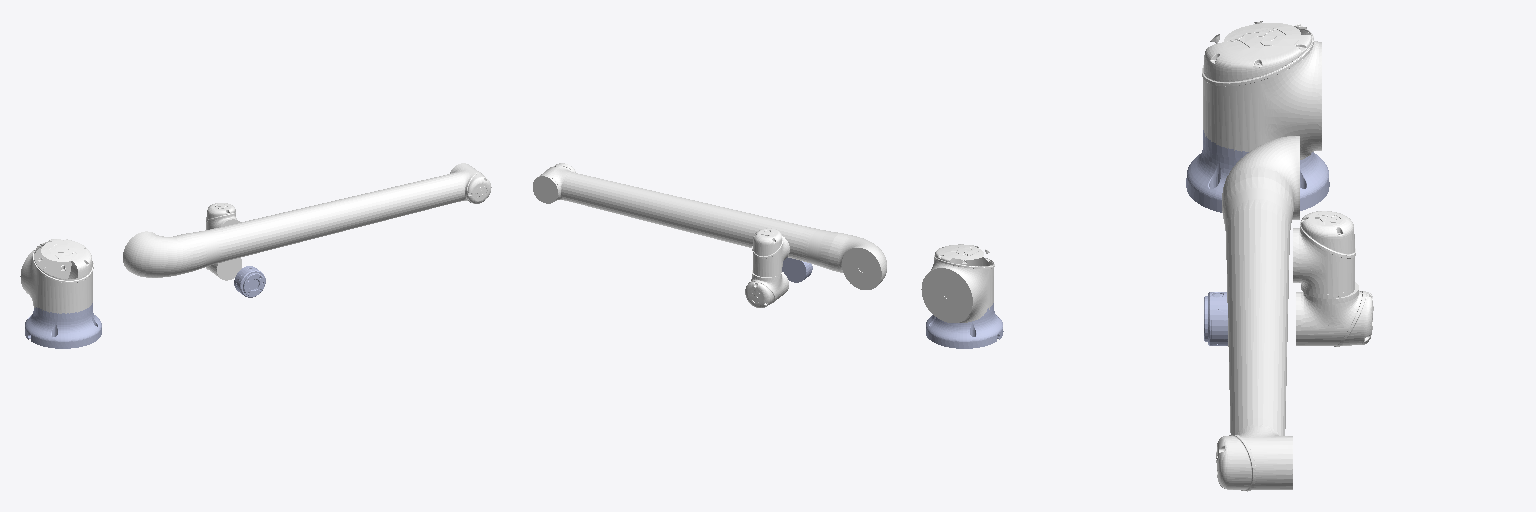
URDF robot description (ec63):
<?xml version="1.0" ?>

<robot name="ec63"  xmlns:xacro="http://www.ros.org/wiki/xacro"> 
  <link name="world"/>
  <joint name="real_world_joint" type="fixed">
    <origin rpy="0 0 0" xyz="0 0 0"/>
    <parent link="world"/>
    <child link="real_base_link"/>
  </joint>
  <link name="real_base_link">
    <inertial>
      <origin rpy="0 0 0" xyz="6.6025E-05 1.6931E-05 0.036471"/>
      <mass value="0.3647"/>
      <inertia ixx="0.00059057" ixy="6.2306E-07" ixz="6.6029E-07" iyy="0.00058934" iyz="-4.8028E-08" izz="0.00074656"/>
    </inertial>
    <visual>
      <origin rpy="0 0 0" xyz="0 0 0"/>
      <geometry>
        <mesh filename="../meshes/base_link.STL"/>
      </geometry>
      <material name="">
        <color rgba="0.79216 0.81961 0.93333 1"/>
      </material>
    </visual>
    <collision>
      <origin rpy="0 0 0" xyz="0 0 0"/>
      <geometry>
        <mesh filename="../meshes/base_link.STL"/>
      </geometry>
    </collision>
  </link>
  <link name="real_link1">
    <inertial>
      <origin rpy="0 0 0" xyz="-5.9693298609962E-07 0.00718798730554815 0.00130597011750025"/>
      <mass value="1.0468989469595"/>
      <inertia ixx="0.00131622835302873" ixy="1.33626024644229E-08" ixz="1.22267487012503E-08" iyy="0.00121041697616178" iyz="-0.000167494836949108" izz="0.00140200332966305"/>
    </inertial>
    <visual>
      <origin rpy="0 0 0" xyz="0 0 0"/>
      <geometry>
        <mesh filename="../meshes/link1.STL"/>
      </geometry>
      <material name="">
        <color rgba="1 1 1 1"/>
      </material>
    </visual>
    <collision>
      <origin rpy="0 0 0" xyz="0 0 0"/>
      <geometry>
        <mesh filename="../meshes/link1.STL"/>
      </geometry>
    </collision>
  </link>
  <joint name="real_joint1" type="revolute">
    <origin rpy="0 0 0" xyz="0 0 0.14"/>
    <parent link="real_base_link"/>
    <child link="real_link1"/>
    <axis xyz="0 0 1"/>
    <limit effort="90" lower="-6.2832" upper="6.2832" velocity="3.3161"/>
  </joint>
  <link name="real_link2">
    <inertial>
      <origin rpy="0 0 0" xyz="0.13499 -8.1271E-07 0.12053"/>
      <mass value="2.6439"/>
      <inertia ixx="0.0032939" ixy="-2.7429E-08" ixz="-3.997E-09" iyy="0.0044238" iyz="-1.4367E-07" izz="0.004596"/>
    </inertial>
    <visual>
      <origin rpy="0 0 0" xyz="0 0 0"/>
      <geometry>
        <mesh filename="../meshes/link2.STL"/>
      </geometry>
      <material name="">
        <color rgba="1 1 1 1"/>
      </material>
    </visual>
    <collision>
      <origin rpy="0 0 0" xyz="0 0 0"/>
      <geometry>
        <mesh filename="../meshes/link2.STL"/>
      </geometry>
    </collision>
  </link>
  <joint name="real_joint2" type="revolute">
    <origin rpy="-1.5708 0 0" xyz="0 0 0"/>
    <parent link="real_link1"/>
    <child link="real_link2"/>
    <axis xyz="0 0 1"/>
    <limit effort="90" lower="-6.2832" upper="6.2832" velocity="3.3161"/>
  </joint>
  <link name="real_link3">
    <inertial>
      <origin rpy="0 0 0" xyz="0.12895 -1.241E-05 0.011444"/>
      <mass value="1.4492"/>
      <inertia ixx="0.0012764" ixy="-3.0636E-08" ixz="7.348E-05" iyy="0.0020529" iyz="-2.1502E-07" izz="0.0020542"/>
    </inertial>
    <visual>
      <origin rpy="0 0 0" xyz="0 0 0"/>
      <geometry>
        <mesh filename="../meshes/link3.STL"/>
      </geometry>
      <material name="">
        <color rgba="1 1 1 1"/>
      </material>
    </visual>
    <collision>
      <origin rpy="0 0 0" xyz="0 0 0"/>
      <geometry>
        <mesh filename="../meshes/link3.STL"/>
      </geometry>
    </collision>
  </link>
  <joint name="real_joint3" type="revolute">
    <origin rpy="0 0 0" xyz="0.27 0 0"/>
    <parent link="real_link2"/>
    <child link="real_link3"/>
    <axis xyz="0 0 1"/>
    <limit effort="90" lower="-2.7925" upper="2.7925" velocity="3.3161"/>
  </joint>
  <link name="real_link4">
    <inertial>
      <origin rpy="0 0 0" xyz="-5.2284E-07 -0.00070291 0.097494"/>
      <mass value="0.53436"/>
      <inertia ixx="0.00041486" ixy="-4.4868E-09" ixz="-1.0989E-09" iyy="0.0004403" iyz="-5.8283E-05" izz="0.00037669"/>
    </inertial>
    <visual>
      <origin rpy="0 0 0" xyz="0 0 0"/>
      <geometry>
        <mesh filename="../meshes/link4.STL"/>
      </geometry>
      <material name="">
        <color rgba="1 1 1 1"/>
      </material>
    </visual>
    <collision>
      <origin rpy="0 0 0" xyz="0 0 0"/>
      <geometry>
        <mesh filename="../meshes/link4.STL"/>
      </geometry>
    </collision>
  </link>
  <joint name="real_joint4" type="revolute">
    <origin rpy="0 0 0" xyz="0.256 0 0"/>
    <parent link="real_link3"/>
    <child link="real_link4"/>
    <axis xyz="0 0 1"/>
    <limit effort="20" lower="-6.2832" upper="6.2832" velocity="4.5379"/>
  </joint>
  <link name="real_link5">
    <inertial>
      <origin rpy="0 0 0" xyz="-5.2273E-07 -0.0012029 0.091994"/>
      <mass value="0.53436"/>
      <inertia ixx="0.00041486" ixy="-4.4901E-09" ixz="-1.1099E-09" iyy="0.0004403" iyz="-5.8283E-05" izz="0.00037669"/>
    </inertial>
    <visual>
      <origin rpy="0 0 0" xyz="0 0 0"/>
      <geometry>
        <mesh filename="../meshes/link5.STL"/>
      </geometry>
      <material name="">
        <color rgba="1 1 1 1"/>
      </material>
    </visual>
    <collision>
      <origin rpy="0 0 0" xyz="0 0 0"/>
      <geometry>
        <mesh filename="../meshes/link5.STL"/>
      </geometry>
    </collision>
  </link>
  <joint name="real_joint5" type="revolute">
    <origin rpy="-1.5708 0 0" xyz="0 0 0.103"/>
    <parent link="real_link4"/>
    <child link="real_link5"/>
    <axis xyz="0 0 1"/>
    <limit effort="20" lower="-6.2832" upper="6.2832" velocity="4.5379"/>
  </joint>
  <link name="real_link6">
    <inertial>
      <origin rpy="0 0 0" xyz="7.5563E-12 2.6132E-05 -0.021697"/>
      <mass value="0.16467"/>
      <inertia ixx="7.7607E-05" ixy="1.4753E-10" ixz="1.0602E-13" iyy="7.7808E-05" iyz="-7.8486E-08" izz="0.00011753"/>
    </inertial>
    <visual>
      <origin rpy="0 0 0" xyz="0 0 0"/>
      <geometry>
        <mesh filename="../meshes/link6.STL"/>
      </geometry>
      <material name="">
        <color rgba="0.79216 0.81961 0.93333 1"/>
      </material>
    </visual>
    <collision>
      <origin rpy="0 0 0" xyz="0 0 0"/>
      <geometry>
        <mesh filename="../meshes/link6.STL"/>
      </geometry>
    </collision>
  </link>
  <joint name="real_joint6" type="revolute">
    <origin rpy="-1.5708 0 0" xyz="0 0.089 0.098"/>
    <parent link="real_link5"/>
    <child link="real_link6"/>
    <axis xyz="0 0 1"/>
    <limit effort="20" lower="-6.2832" upper="6.2832" velocity="4.5379"/>
  </joint>
  <link name="real_flan"/>
  <joint name="real_flan_joint" type="fixed">
    <origin rpy="0 0 0" xyz="0 0 0"/>
    <parent link="real_link6"/>
    <child link="real_flan"/>
  </joint>
</robot>

--- Render facts (derived) ---
Views: 3 orthographic renders of the robot side by side, from view 1: azimuth 30°, elevation 25°; view 2: azimuth 150°, elevation 25°; view 3: azimuth 270°, elevation 25°.
Robot: ec63 — 9 links, 8 joints (6 revolute, 2 fixed); root link world; default pose: all joints at 0.
Visible links, largest first — view 1: real_link3, real_link1, real_base_link, real_link6, real_link4; view 2: real_link3, real_link1, real_base_link, real_link4, real_link5, real_link6; view 3: real_link3, real_link1, real_link4, real_link5, real_base_link, real_link6.
Boxes of the visible links, box(x1,y1,x2,y2) form: real_link3: box(123, 163, 491, 277); real_link1: box(20, 239, 93, 313); real_base_link: box(25, 303, 101, 348); real_link6: box(234, 266, 265, 297); real_link4: box(206, 203, 239, 229); real_link3: box(533, 163, 886, 289); real_link1: box(921, 244, 994, 322); real_base_link: box(926, 303, 1003, 348); real_link4: box(752, 228, 789, 276); real_link5: box(745, 270, 788, 307); real_link6: box(782, 257, 812, 282); real_link3: box(1216, 136, 1299, 491); real_link1: box(1202, 21, 1321, 159); real_link4: box(1293, 211, 1355, 298); real_link5: box(1296, 282, 1373, 346); real_base_link: box(1186, 130, 1329, 212); real_link6: box(1204, 292, 1227, 345).
Size in the robot's own frame: 1.35 by 0.2615 by 0.2345 metres.
6 mesh visuals loaded from 7 distinct referenced files (6 binary STL); not drawn: 1 (reference not matched to a file when rendering).
